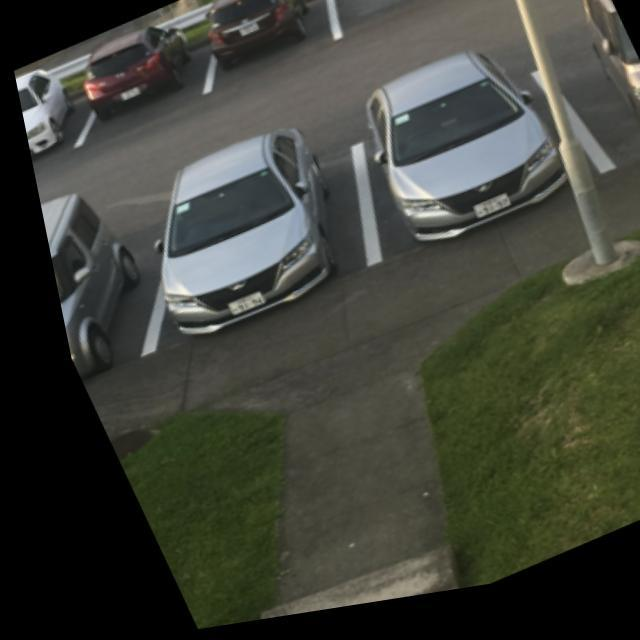license_plate: (210, 294, 253, 323), (458, 205, 499, 234)
